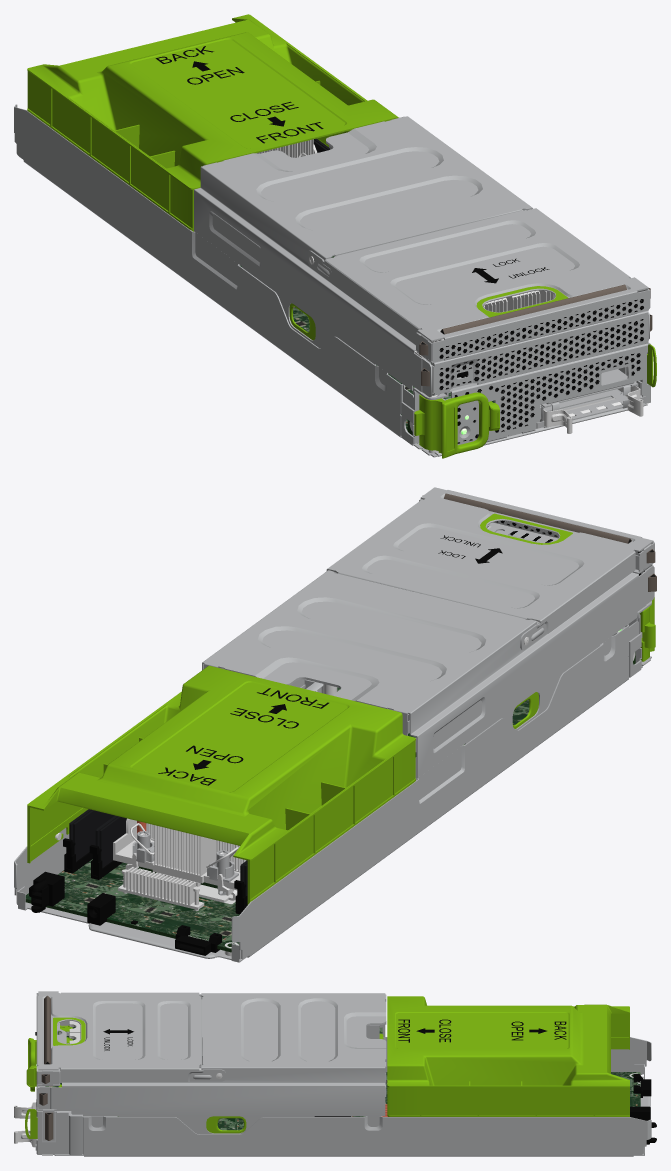
Rendered from glacier-point.glb.
The picture shows the model from 3 angles, top to bottom: view 1: azimuth 30°, elevation 25°; view 2: azimuth 150°, elevation 25°; view 3: azimuth 270°, elevation 25°; orthographic projection. The views are drawn at different scales.
Visible parts, largest first — view 1: Glacier Point_Tray_primitive0, Glacier Point_Rear Cover_primitive0, Glacier Point_Top Front Cover_primitive0, Glacier Point_Tray_primitive2, Glacier Point_Tray_primitive1, Glacier Point_Tray_primitive3, Glacier Point_Top Front Cover_primitive5, Glacier Point_Rear Cover_primitive1, Glacier Point_Top Front Cover_primitive2; view 2: Glacier Point_Tray_primitive0, Glacier Point_Rear Cover_primitive0, Glacier Point_Top Front Cover_primitive0, Glacier Point_Tray_primitive3, Glacier Point_Tray_primitive9, Glacier Point_Tray_primitive5, Glacier Point_Tray_primitive12, Glacier Point_Top Front Cover_primitive5, Glacier Point_Rear Cover_primitive1, Glacier Point_Tray_primitive1, Glacier Point_Tray_primitive2; view 3: Glacier Point_Tray_primitive0, Glacier Point_Rear Cover_primitive0, Glacier Point_Top Front Cover_primitive0, Glacier Point_Tray_primitive2, Glacier Point_Tray_primitive1, Glacier Point_Tray_primitive9, Glacier Point_Tray_primitive5, Glacier Point_Rear Cover_primitive1, Glacier Point_Tray_primitive3, Glacier Point_Top Front Cover_primitive5, Glacier Point_Top Front Cover_primitive2, Glacier Point_Tray_primitive11.
Part boxes in pixels (x1,y1,x2,y2): Glacier Point_Tray_primitive0: (14, 104, 649, 457); Glacier Point_Rear Cover_primitive0: (27, 14, 398, 231); Glacier Point_Top Front Cover_primitive0: (307, 208, 650, 363); Glacier Point_Tray_primitive2: (329, 145, 650, 445); Glacier Point_Tray_primitive1: (289, 303, 656, 458); Glacier Point_Tray_primitive3: (256, 139, 643, 453); Glacier Point_Top Front Cover_primitive5: (419, 284, 650, 355); Glacier Point_Rear Cover_primitive1: (155, 46, 323, 143); Glacier Point_Top Front Cover_primitive2: (476, 286, 568, 317); Glacier Point_Tray_primitive0: (14, 566, 654, 962); Glacier Point_Rear Cover_primitive0: (27, 665, 415, 904); Glacier Point_Top Front Cover_primitive0: (325, 487, 654, 650); Glacier Point_Tray_primitive3: (55, 621, 646, 956); Glacier Point_Tray_primitive9: (25, 687, 529, 949); Glacier Point_Tray_primitive5: (29, 838, 247, 955); Glacier Point_Tray_primitive12: (69, 809, 247, 903); Glacier Point_Top Front Cover_primitive5: (422, 493, 655, 563); Glacier Point_Rear Cover_primitive1: (158, 688, 328, 785); Glacier Point_Tray_primitive1: (512, 597, 655, 728); Glacier Point_Tray_primitive2: (290, 530, 653, 710); Glacier Point_Tray_primitive0: (35, 993, 651, 1156); Glacier Point_Rear Cover_primitive0: (387, 996, 629, 1116); Glacier Point_Top Front Cover_primitive0: (36, 991, 225, 1085); Glacier Point_Tray_primitive2: (36, 1025, 379, 1154); Glacier Point_Tray_primitive1: (25, 1025, 383, 1138); Glacier Point_Tray_primitive9: (45, 1026, 640, 1130); Glacier Point_Tray_primitive5: (35, 1032, 656, 1144); Glacier Point_Rear Cover_primitive1: (398, 1019, 566, 1042); Glacier Point_Tray_primitive3: (14, 1021, 640, 1147); Glacier Point_Top Front Cover_primitive5: (41, 995, 50, 1083); Glacier Point_Top Front Cover_primitive2: (53, 1017, 85, 1045); Glacier Point_Tray_primitive11: (39, 1093, 53, 1140).
Bounding box in the file's own units: 0.171 × 0.0839 × 0.5549.
Materials: 13 (3 with a texture image).
